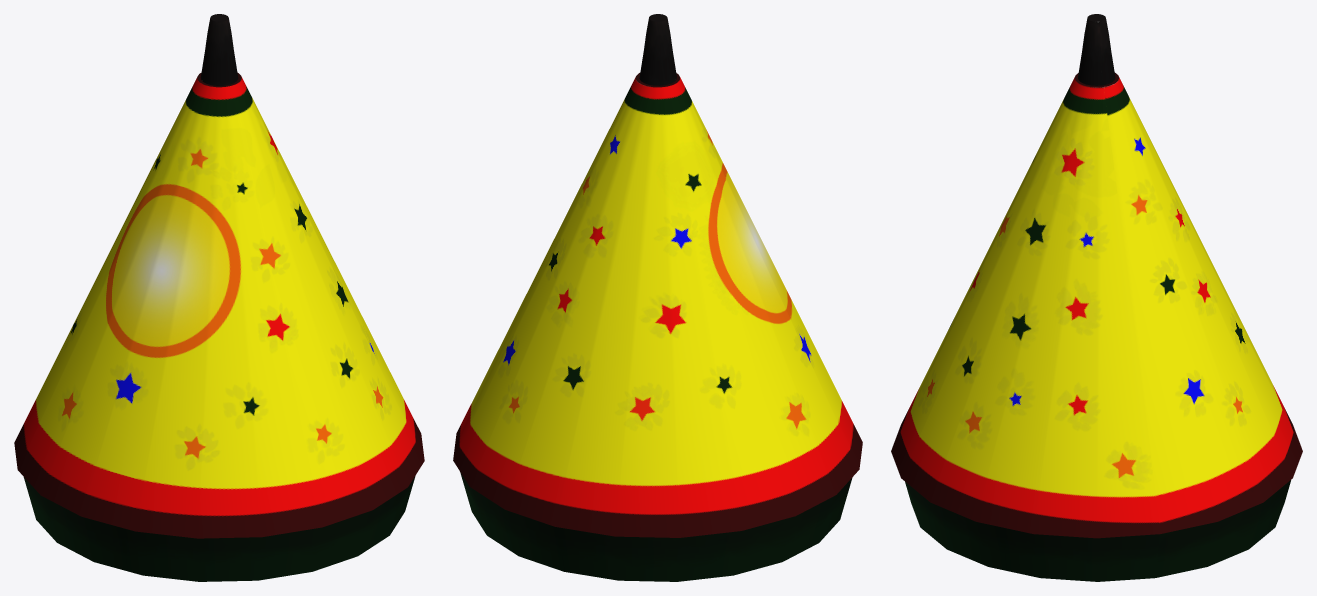
File: anaar final.fbx
The picture shows the model from 3 angles, left to right: view 1: azimuth 30°, elevation 25°; view 2: azimuth 150°, elevation 25°; view 3: azimuth 270°, elevation 25°; orthographic projection.
Visible parts, largest first — view 1: pCylinder4; view 2: pCylinder4; view 3: pCylinder4.
Boxes of the visible parts, x1,y1,x2,y2 form: pCylinder4: (14,14,424,581); pCylinder4: (453,14,862,581); pCylinder4: (891,14,1302,581).
Bounding box in the file's own units: 2.92 × 3.79 × 2.92.
1 material, 1 textured.
